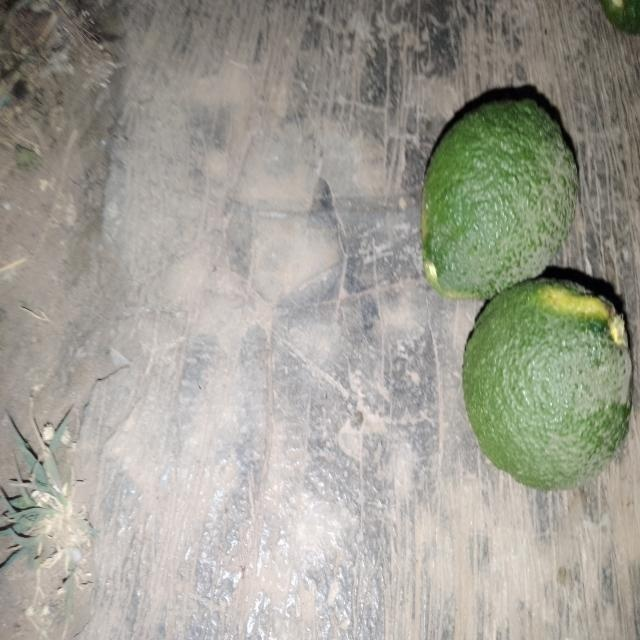agrume: (447, 266, 640, 508), (400, 78, 589, 304)
